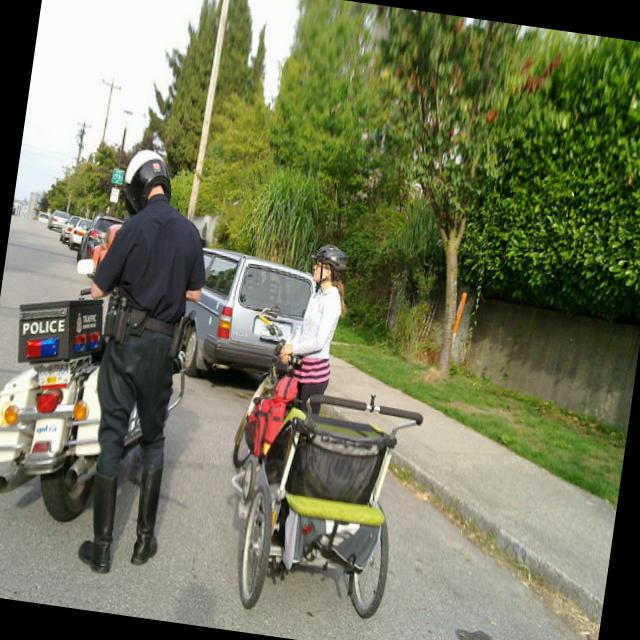Vehicle: (0, 246, 213, 542), (169, 240, 313, 393), (78, 212, 126, 262), (90, 221, 124, 273), (66, 217, 90, 252), (60, 216, 80, 247), (47, 210, 70, 232), (35, 210, 51, 224)
